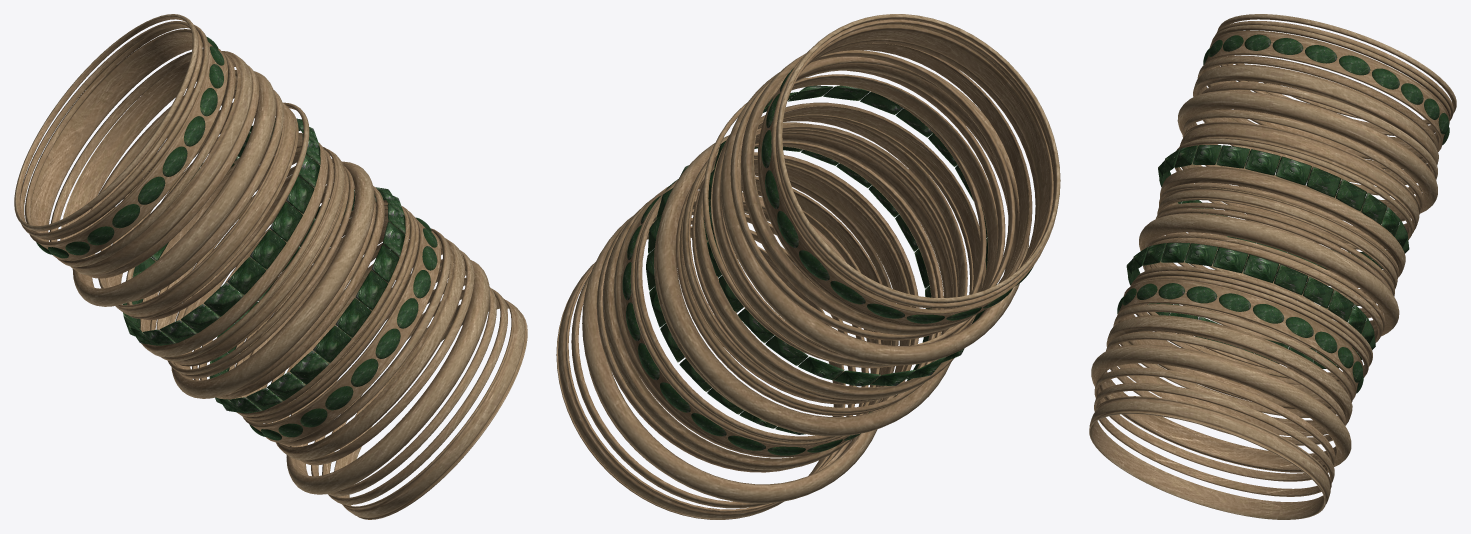
File: Bangle.fbx
The picture shows the model from 3 angles, left to right: view 1: azimuth 30°, elevation 25°; view 2: azimuth 150°, elevation 25°; view 3: azimuth 270°, elevation 25°; orthographic projection. The views are drawn at different scales.
Parts seen in each view (by area): view 1: BBBanglesL.Shape; view 2: BBBanglesL.Shape; view 3: BBBanglesL.Shape.
Boxes of the visible parts, x1,y1,x2,y2 form: BBBanglesL.Shape: (14,14,527,519); BBBanglesL.Shape: (556,14,1060,519); BBBanglesL.Shape: (1089,14,1456,519).
Size of the model in its own units: 12.09 by 12.82 by 9.67.
Materials: 9 (9 with a texture image).
